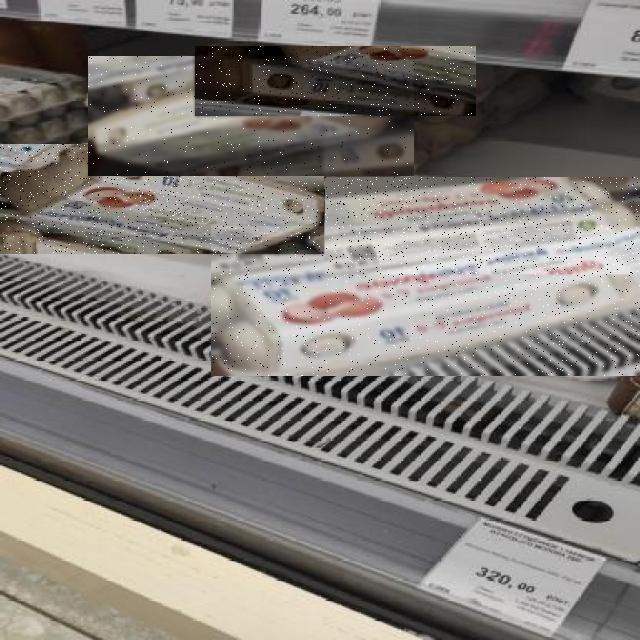Eggs: (211, 226, 640, 376), (88, 56, 414, 176), (1, 144, 325, 254), (325, 177, 640, 274), (195, 47, 476, 117)
